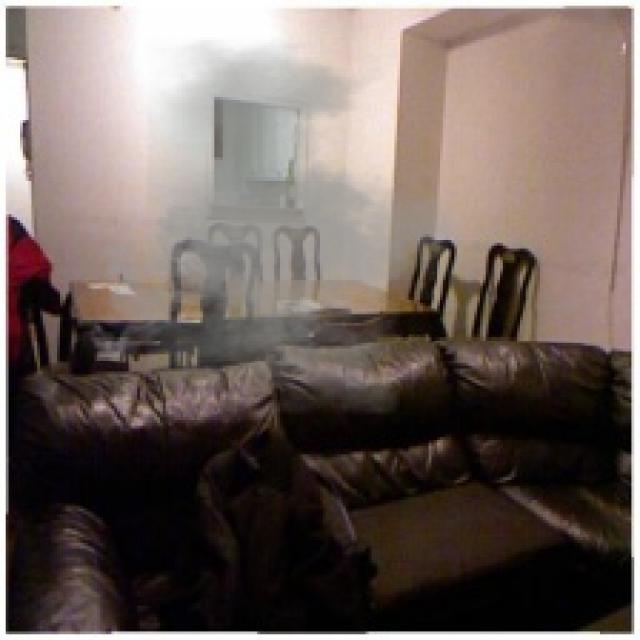smoke: (77, 37, 469, 414)
